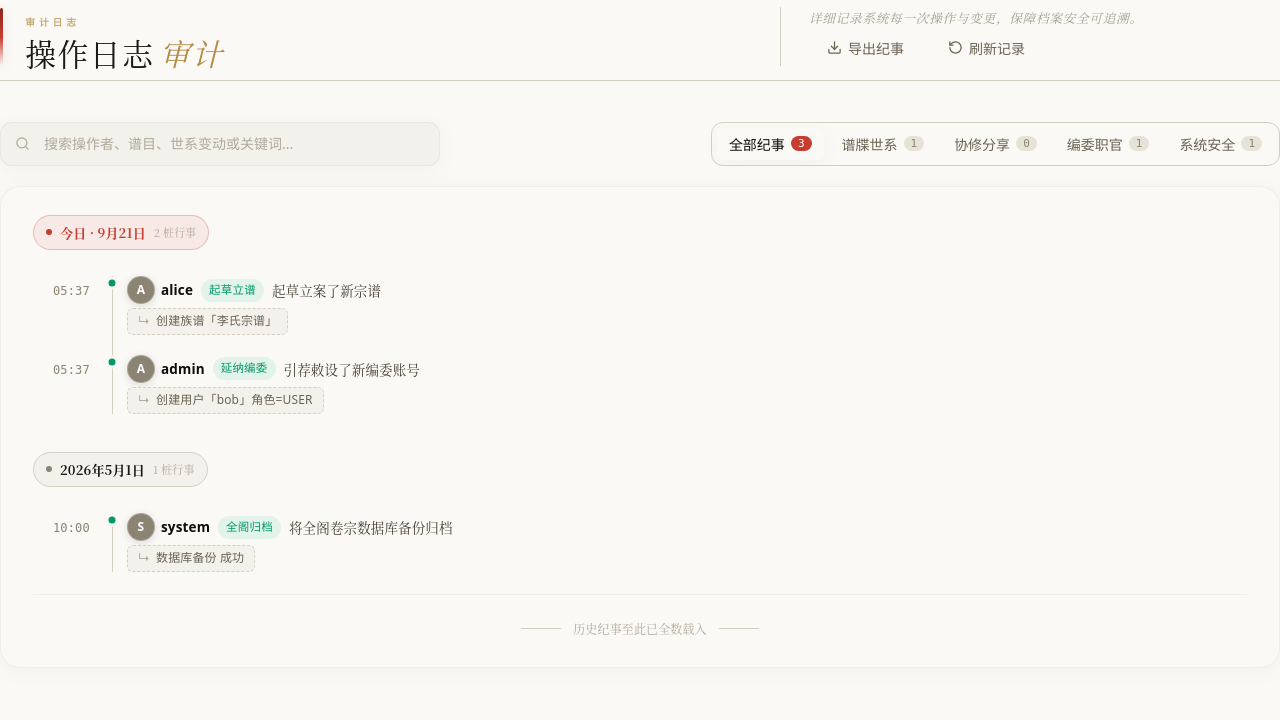
Test: AuditLogView › filters logs by search query
Type "李氏宗谱" into the field with class "search-input" at (232, 144), box [40,131,425,157]
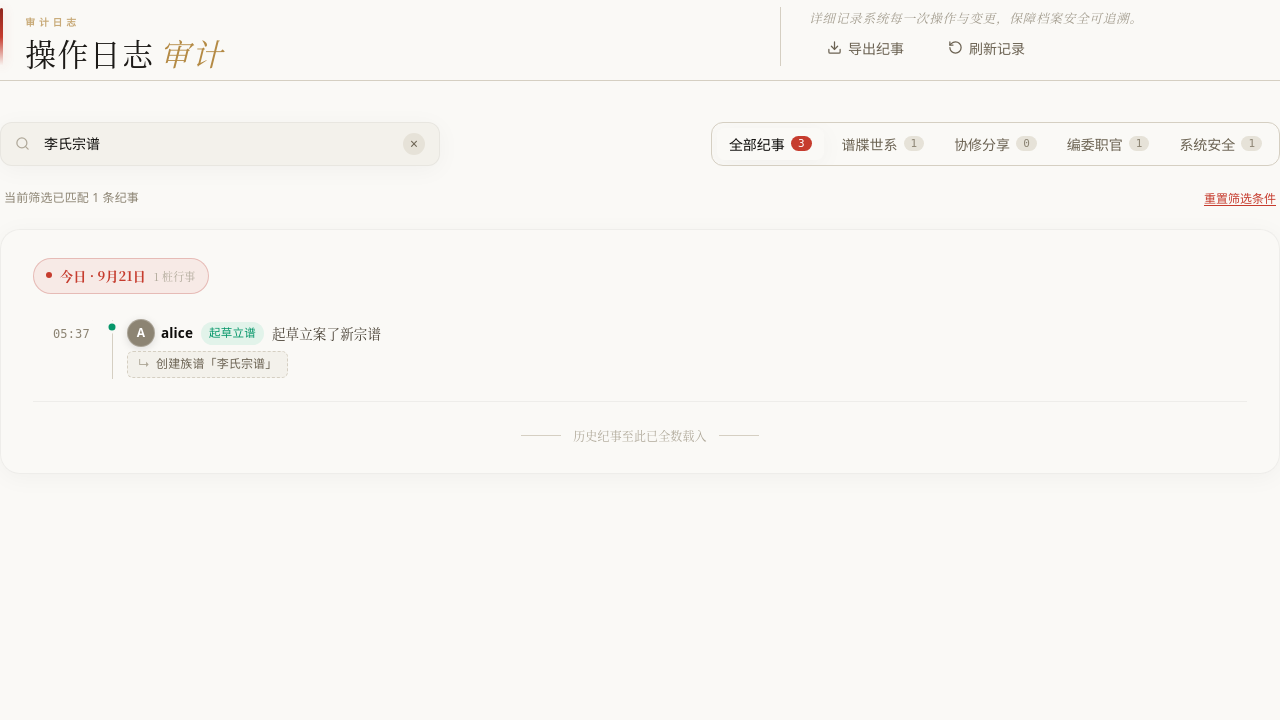
Expected: the text "起草立谱" is shown, [201,322,264,345]
Expected: the text "延纳编委" is gone
Expected: the text "全阁归档" is gone
